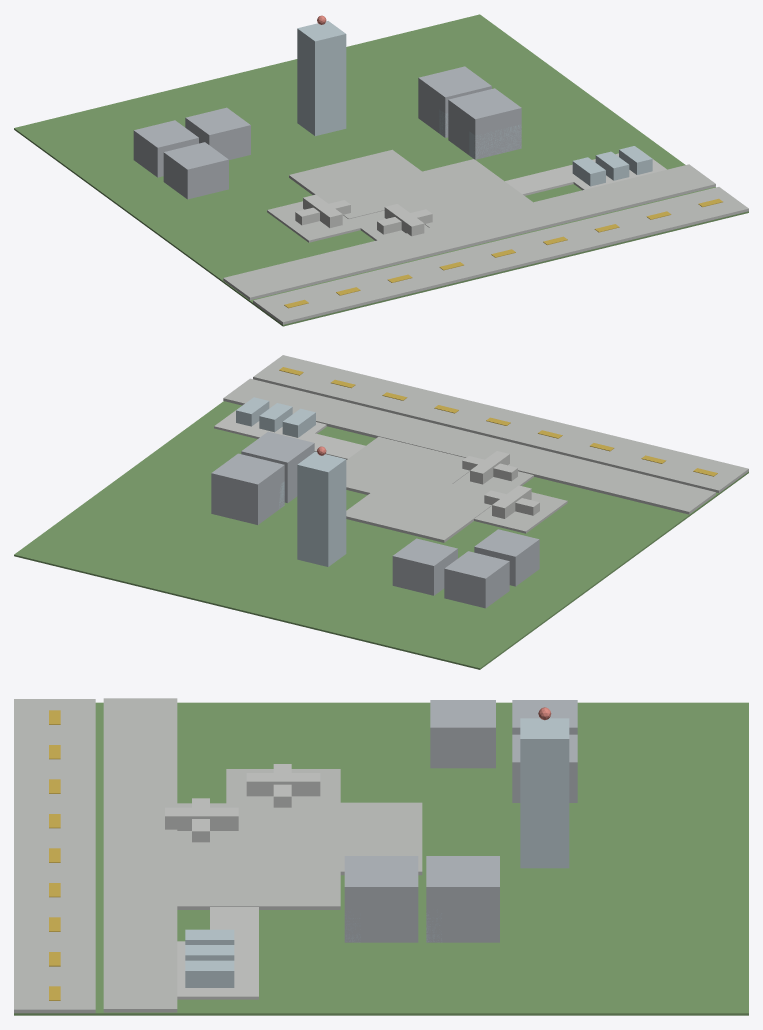
Rendered from stage_13.glb.
The picture shows the model from 3 angles, top to bottom: view 1: azimuth 30°, elevation 25°; view 2: azimuth 150°, elevation 25°; view 3: azimuth 270°, elevation 25°; orthographic projection. The views are drawn at different scales.
Parts seen in each view (by area): view 1: geometry_0; view 2: geometry_0; view 3: geometry_0.
Boxes of the visible parts, bbox=[...] form: geometry_0: bbox=[14, 14, 748, 326]; geometry_0: bbox=[14, 355, 748, 669]; geometry_0: bbox=[14, 698, 748, 1015].
Bounding box in the file's own units: 9 × 2.06 × 9.
